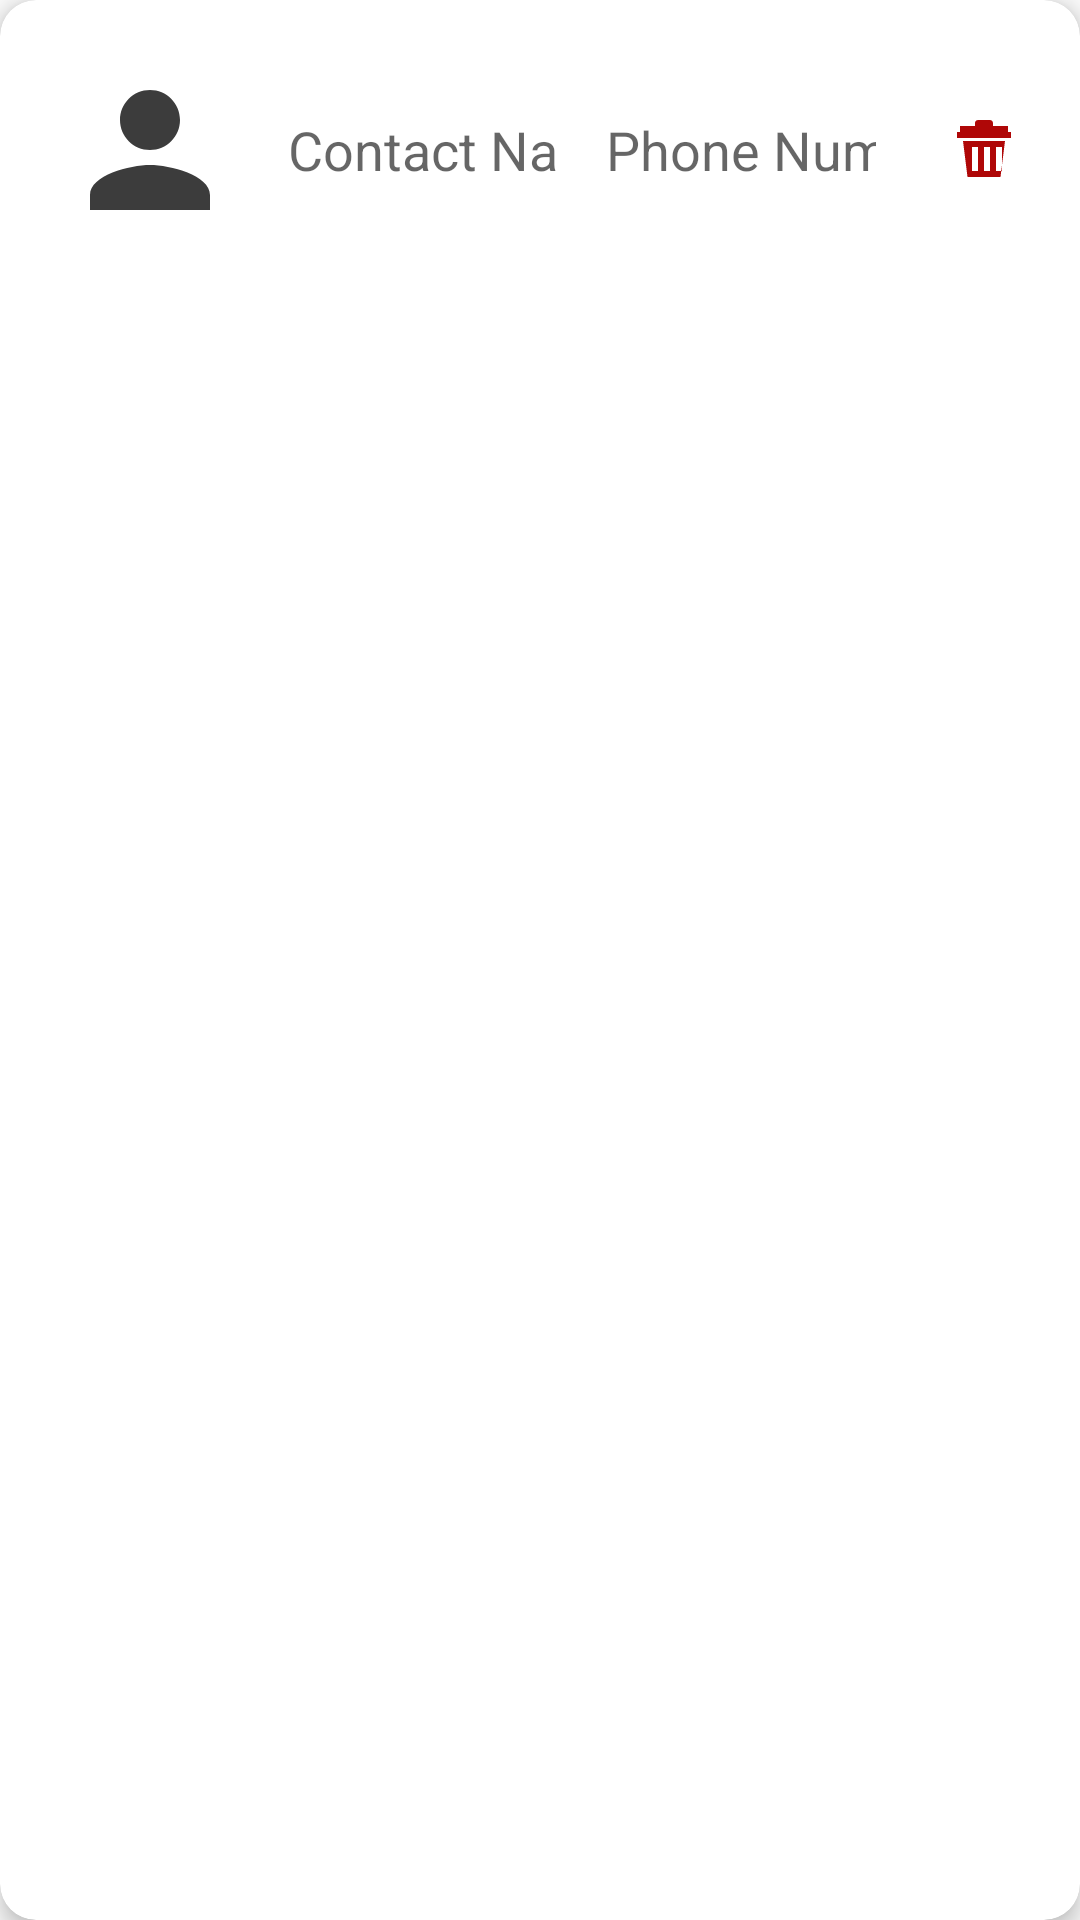

Where icons sit on this 1080 x 1920 app screen, as (x1, y1, x2, y2):
Remove Contact: (957, 120, 1011, 177)
